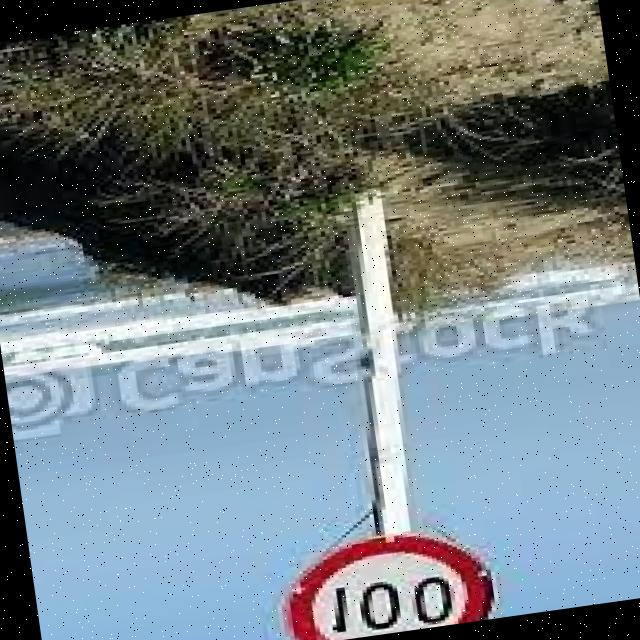speed_limit_100: (257, 524, 510, 640)
